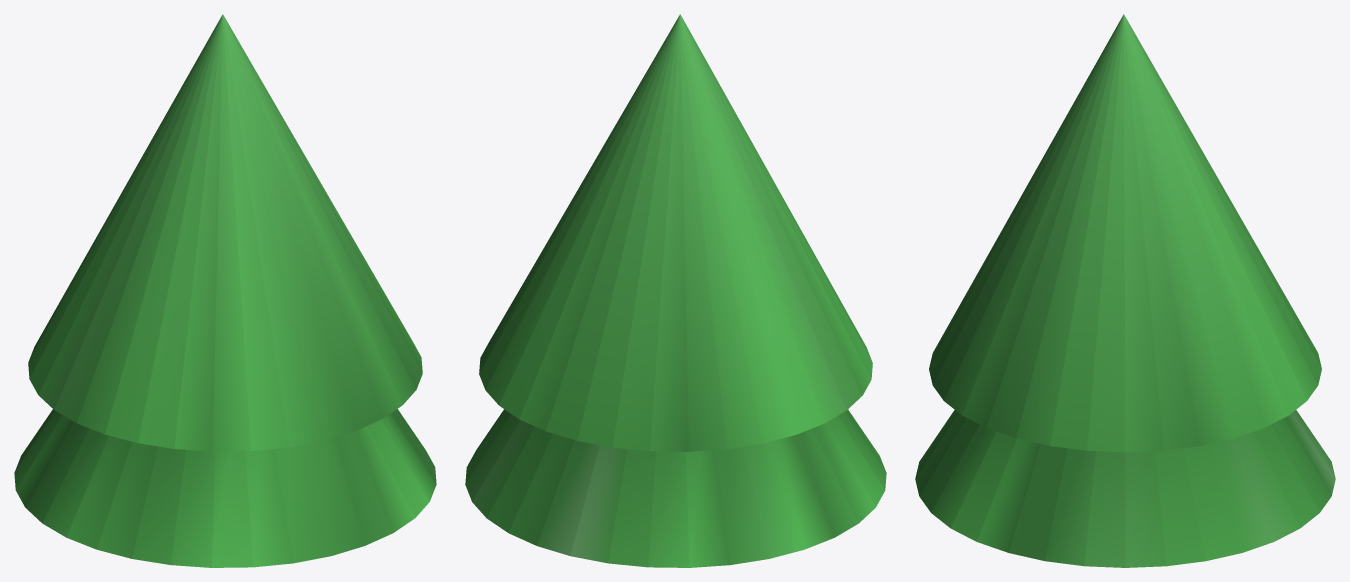
The model's file is ARVERES.fbx.
3 renders of one model, left to right at view 1: azimuth 30°, elevation 25°; view 2: azimuth 150°, elevation 25°; view 3: azimuth 270°, elevation 25°, orthographic.
Parts seen in each view (by area): view 1: Cylinder; view 2: Cylinder; view 3: Cylinder.
Part boxes in pixels (x1,y1,x2,y2): Cylinder: (14,14,436,567); Cylinder: (465,14,886,567); Cylinder: (915,14,1335,567).
Size of the model in its own units: 398 by 534 by 398.
